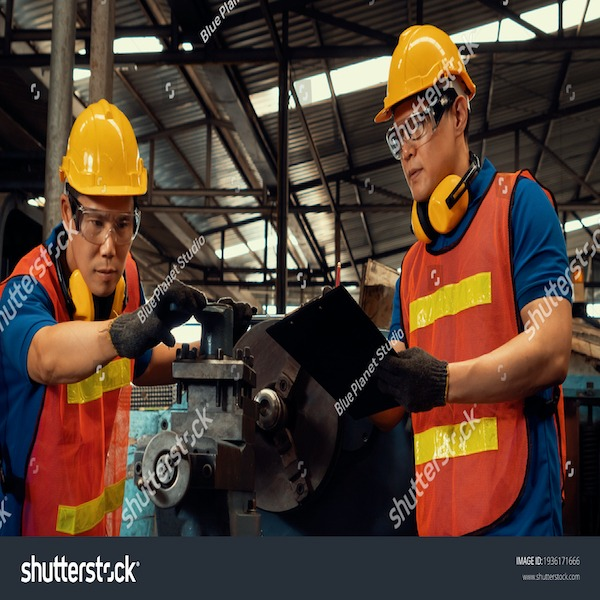helmet: (374, 27, 475, 116), (66, 102, 149, 196)
vest: (400, 224, 540, 528), (17, 252, 148, 543)
